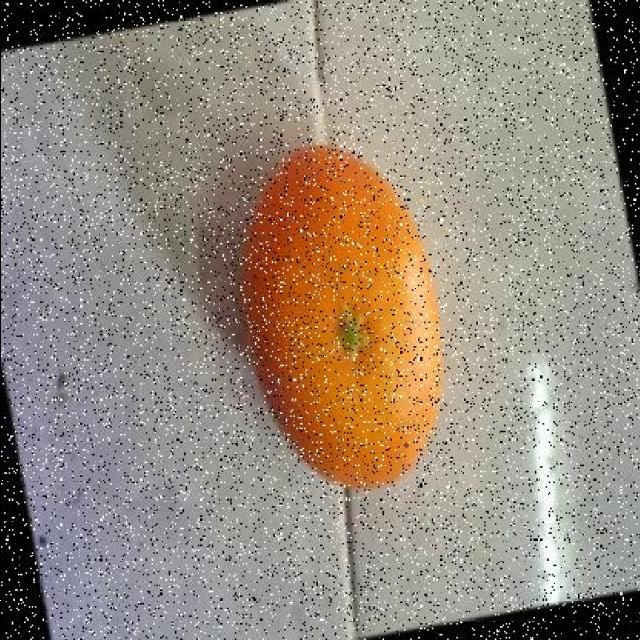Orange: (237, 142, 446, 490)
